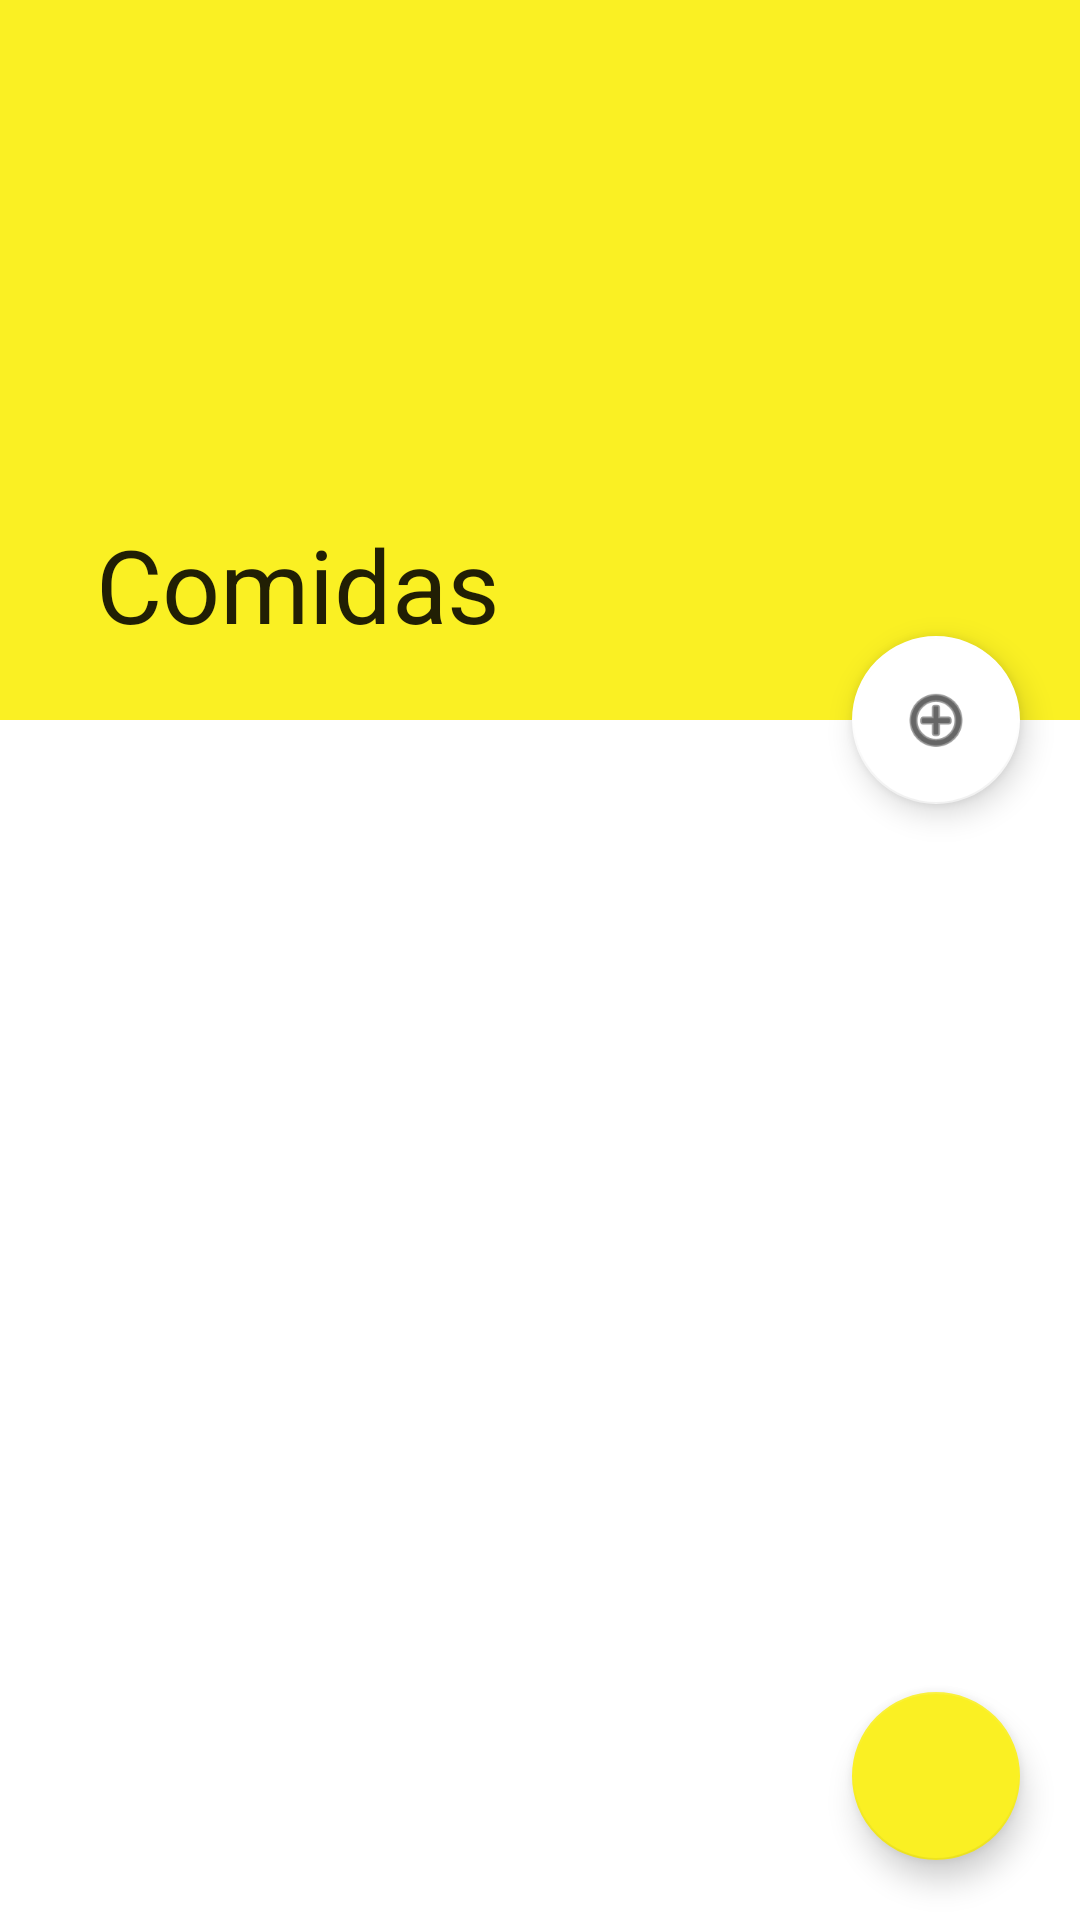

Named icons in this screenshot (1080*1920) and their centers, (x=x, y=y):
add: (x=936, y=720)
